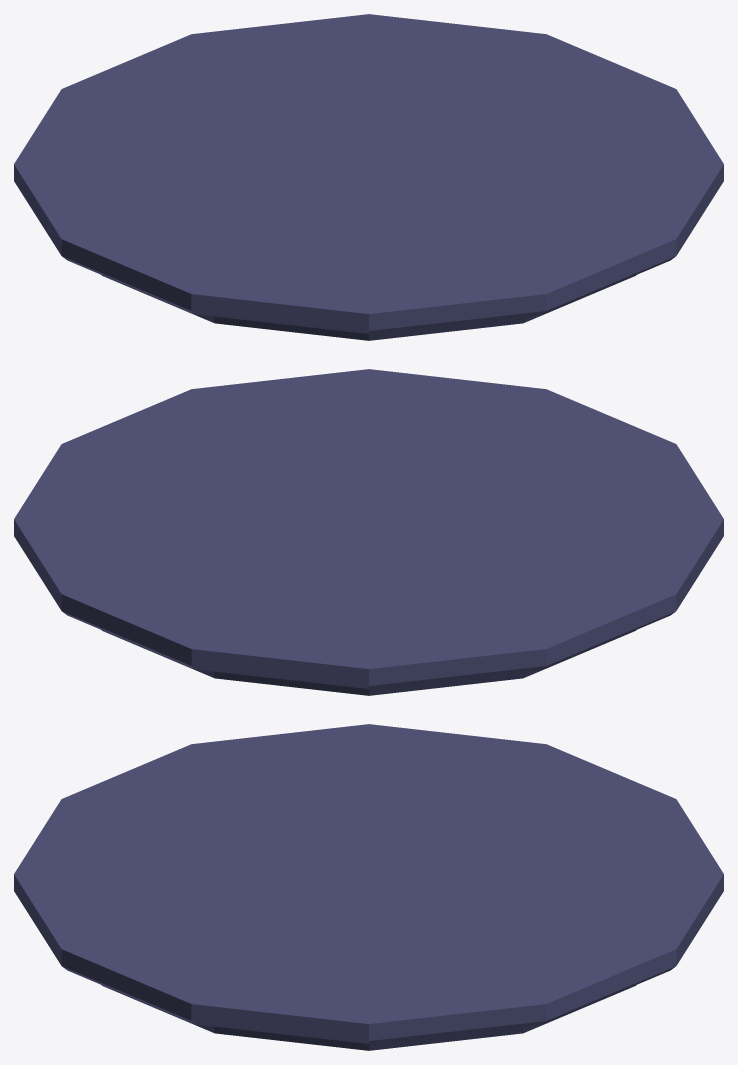
The model's file is ceiling.light.fbx.
The picture shows the model from 3 angles, top to bottom: view 1: azimuth 30°, elevation 25°; view 2: azimuth 150°, elevation 25°; view 3: azimuth 270°, elevation 25°; orthographic projection.
Parts seen in each view (by area): view 1: ceiling.light; view 2: ceiling.light; view 3: ceiling.light.
Part boxes in pixels (x1,y1,x2,y2): ceiling.light: (14,14,723,340); ceiling.light: (14,369,723,695); ceiling.light: (14,724,723,1050).
Size of the model in its own units: 112 by 13.12 by 112.
